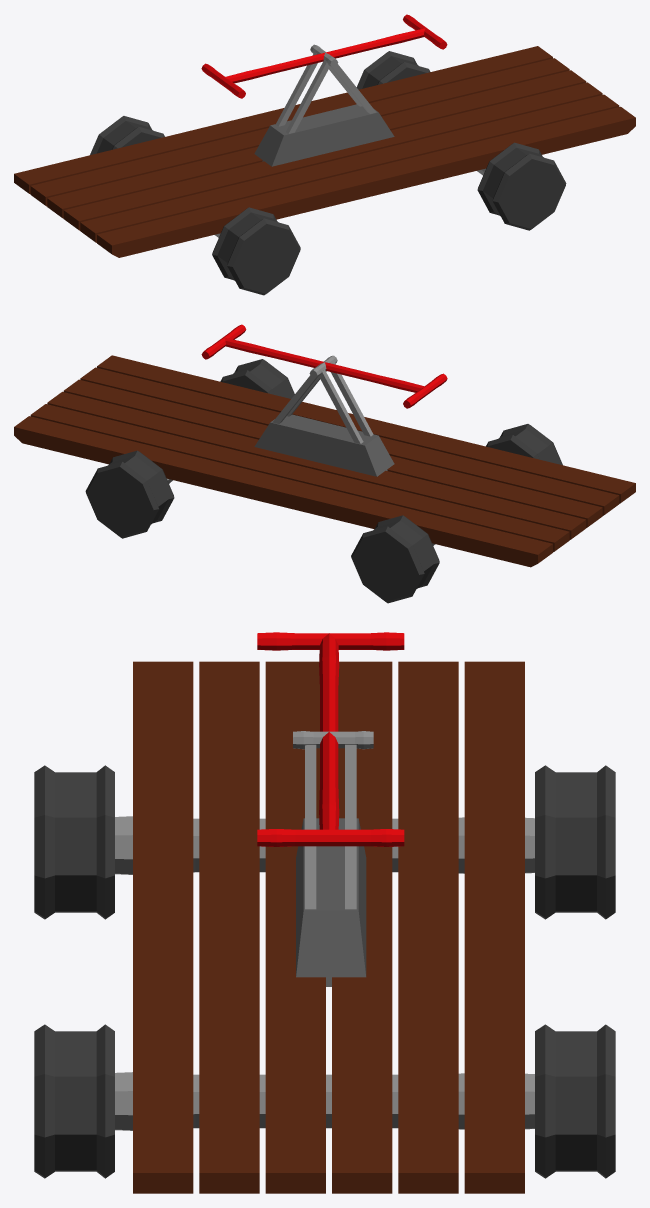
The model's file is Obj6-Carretilla.glb.
The picture shows the model from 3 angles, top to bottom: view 1: azimuth 30°, elevation 25°; view 2: azimuth 150°, elevation 25°; view 3: azimuth 270°, elevation 25°; orthographic projection. The views are drawn at different scales.
Visible parts, largest first — view 1: Cube.991, Cube.986, Cube.990, Cube.984, Cube.989, Cube.983, Cube.988; view 2: Cube.991, Cube.986, Cube.990, Cube.984, Cube.989, Cube.983, Cube.988; view 3: Cube.991, Cube.986, Cube.990, Cube.985, Cube.983, Cube.984, Cube.988, Cube.987.
Part boxes in pixels (bbox=[...]): Cube.991: bbox=[14, 46, 635, 257]; Cube.986: bbox=[90, 51, 566, 295]; Cube.990: bbox=[254, 104, 394, 166]; Cube.984: bbox=[224, 28, 425, 83]; Cube.989: bbox=[275, 52, 330, 133]; Cube.983: bbox=[201, 14, 447, 98]; Cube.988: bbox=[329, 64, 376, 113]; Cube.991: bbox=[14, 355, 635, 567]; Cube.986: bbox=[85, 359, 562, 603]; Cube.990: bbox=[254, 414, 394, 476]; Cube.984: bbox=[224, 337, 424, 392]; Cube.989: bbox=[319, 362, 373, 443]; Cube.983: bbox=[201, 324, 447, 408]; Cube.988: bbox=[272, 371, 326, 423]; Cube.991: bbox=[133, 661, 524, 1193]; Cube.986: bbox=[34, 765, 615, 1178]; Cube.990: bbox=[296, 818, 366, 986]; Cube.985: bbox=[115, 816, 534, 1130]; Cube.983: bbox=[257, 632, 404, 846]; Cube.984: bbox=[319, 633, 339, 829]; Cube.988: bbox=[305, 744, 356, 909]; Cube.987: bbox=[293, 731, 373, 749].
Bounding box in the file's own units: 2.73 × 0.7898 × 1.31.
